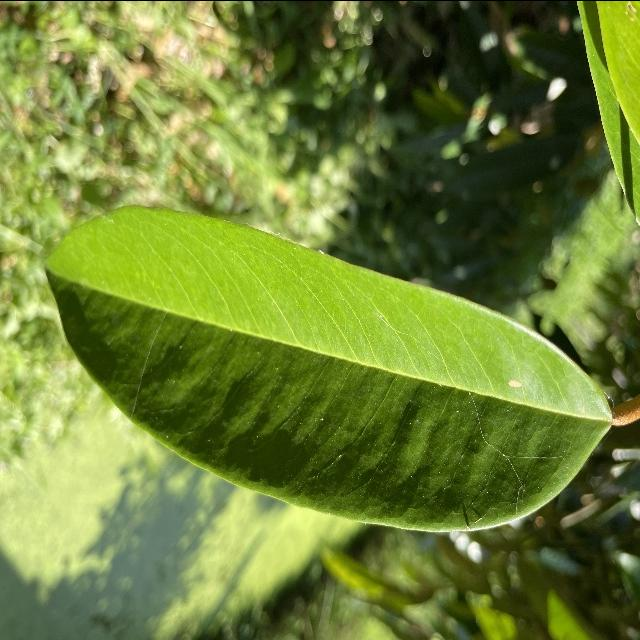No Disease: (28, 195, 621, 538)
